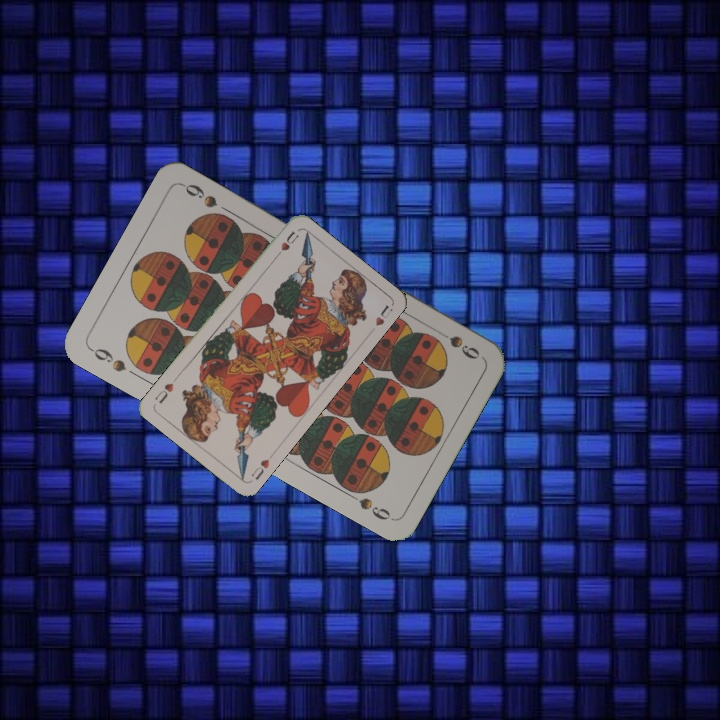HU: (271, 227, 301, 261), (247, 455, 272, 483)
S9: (430, 324, 482, 362), (86, 344, 129, 375)
